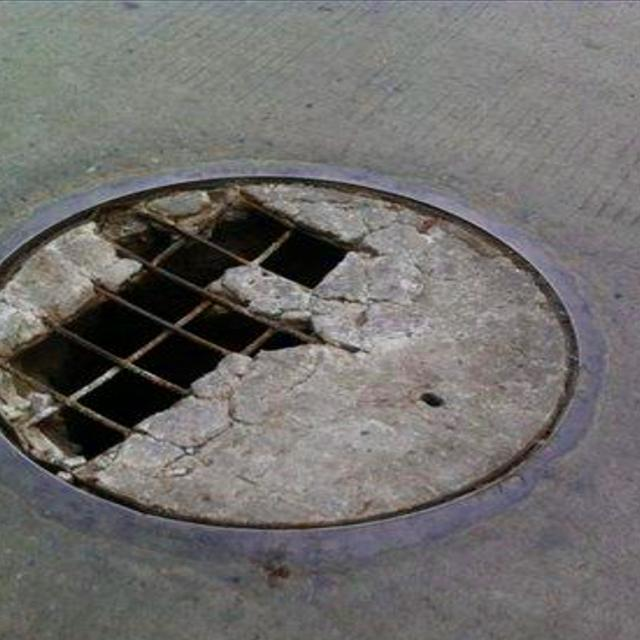broke: (0, 153, 626, 560)
